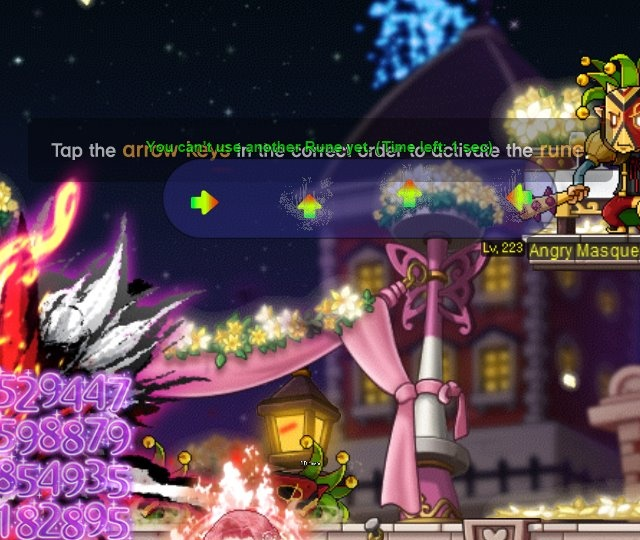rune_box: (155, 148, 569, 246)
